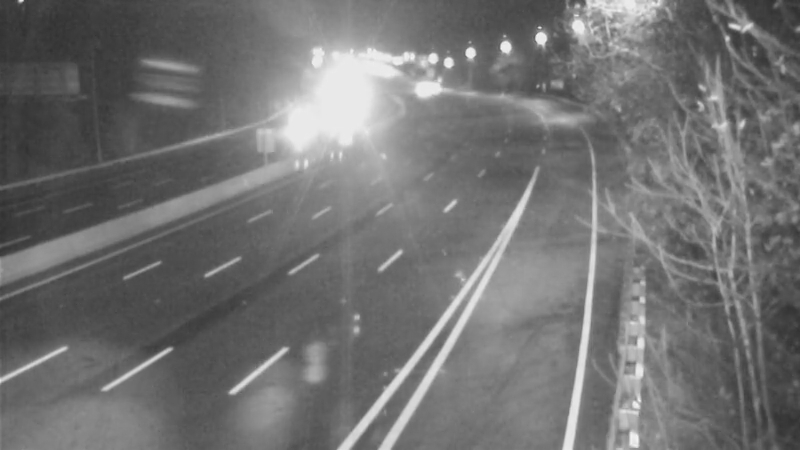vehicle: (394, 60, 444, 110), (405, 60, 455, 110), (287, 94, 337, 144)
